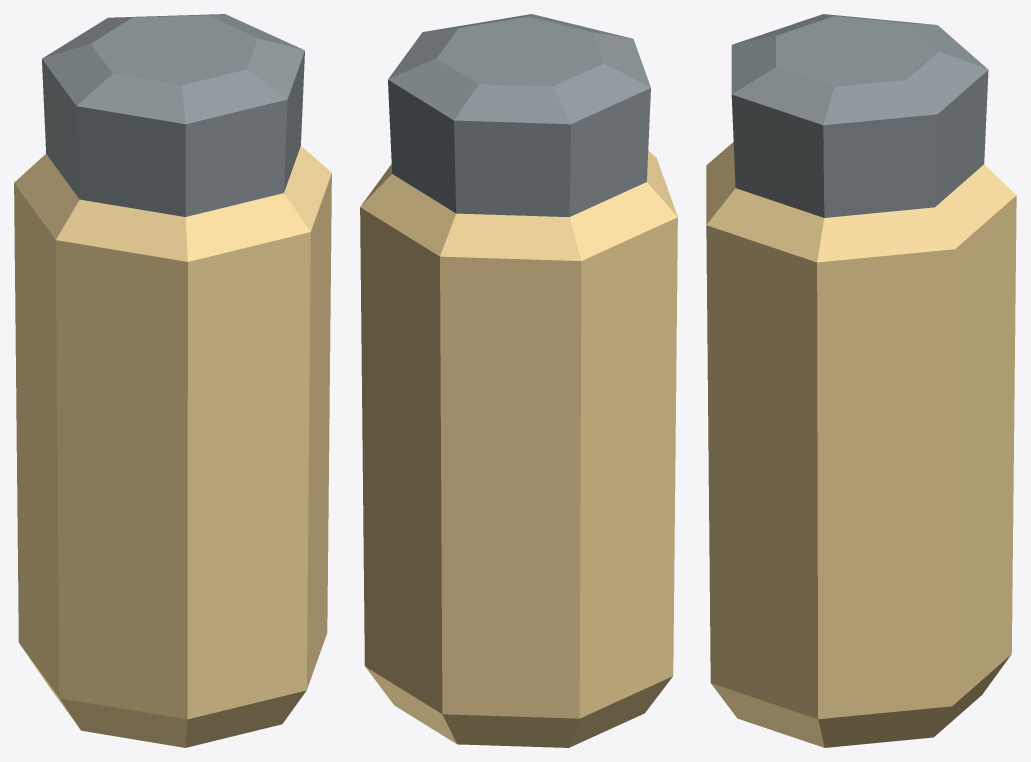
Rendered from SaltShaker.glb.
The picture shows the model from 3 angles, left to right: view 1: azimuth 30°, elevation 25°; view 2: azimuth 150°, elevation 25°; view 3: azimuth 270°, elevation 25°; orthographic projection.
Visible parts, largest first — view 1: SaltShaker; view 2: SaltShaker; view 3: SaltShaker.
Boxes of the visible parts, x1=… form: SaltShaker: x1=14, y1=14, x2=331, y2=747; SaltShaker: x1=360, y1=14, x2=677, y2=747; SaltShaker: x1=706, y1=14, x2=1016, y2=747.
Bounding box in the file's own units: 0.0684 × 0.1525 × 0.0666.
